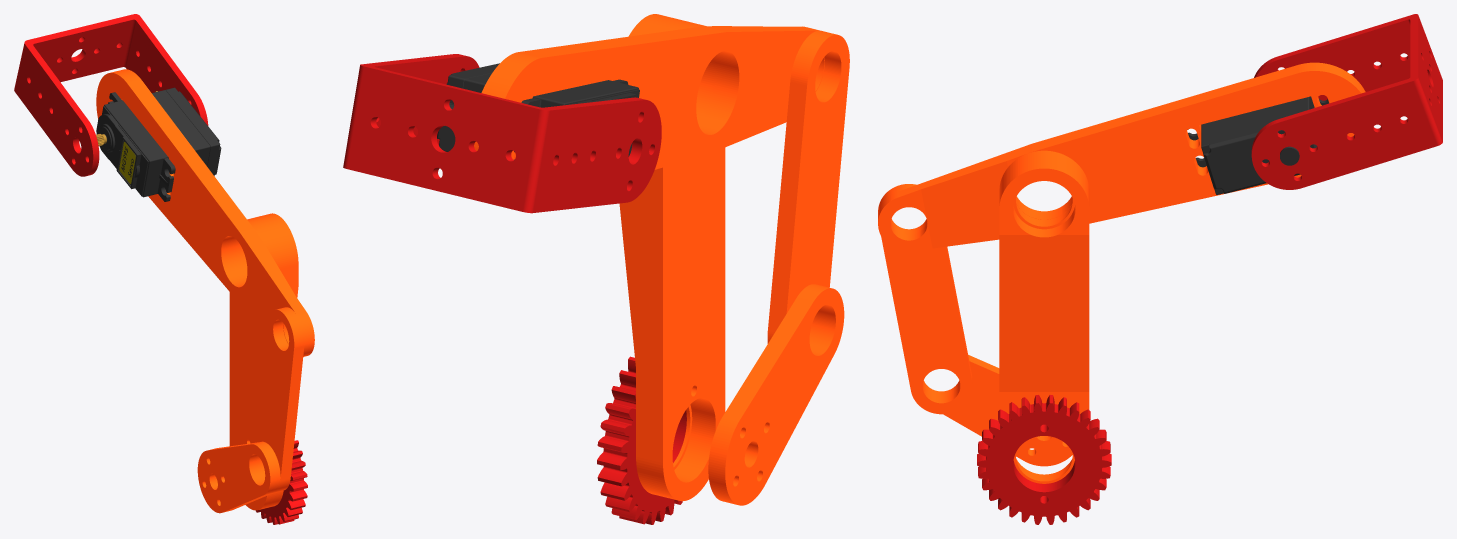
Rendered from Concept1.glb.
The picture shows the model from 3 angles, left to right: view 1: azimuth 30°, elevation 25°; view 2: azimuth 150°, elevation 25°; view 3: azimuth 270°, elevation 25°; orthographic projection. The views are drawn at different scales.
Parts seen in each view (by area): view 1: Node1, Node11, Node2, Node3, Node6; view 2: Node1, Node11, Node3, Node2; view 3: Node1, Node11, Node3, Node2.
Part boxes in pixels (x1=…): Node1: x1=96, y1=69, x2=314, y2=513; Node11: x1=14, y1=14, x2=208, y2=176; Node2: x1=96, y1=87, x2=221, y2=201; Node3: x1=255, y1=440, x2=307, y2=524; Node6: x1=119, y1=142, x2=135, y2=183; Node1: x1=474, y1=14, x2=849, y2=505; Node11: x1=343, y1=54, x2=661, y2=213; Node3: x1=597, y1=356, x2=686, y2=524; Node2: x1=437, y1=63, x2=639, y2=159; Node1: x1=878, y1=62, x2=1365, y2=483; Node11: x1=1251, y1=14, x2=1442, y2=189; Node3: x1=977, y1=395, x2=1111, y2=524; Node2: x1=1188, y1=96, x2=1328, y2=194.
Bounding box in the file's own units: 57 × 179 × 201.
